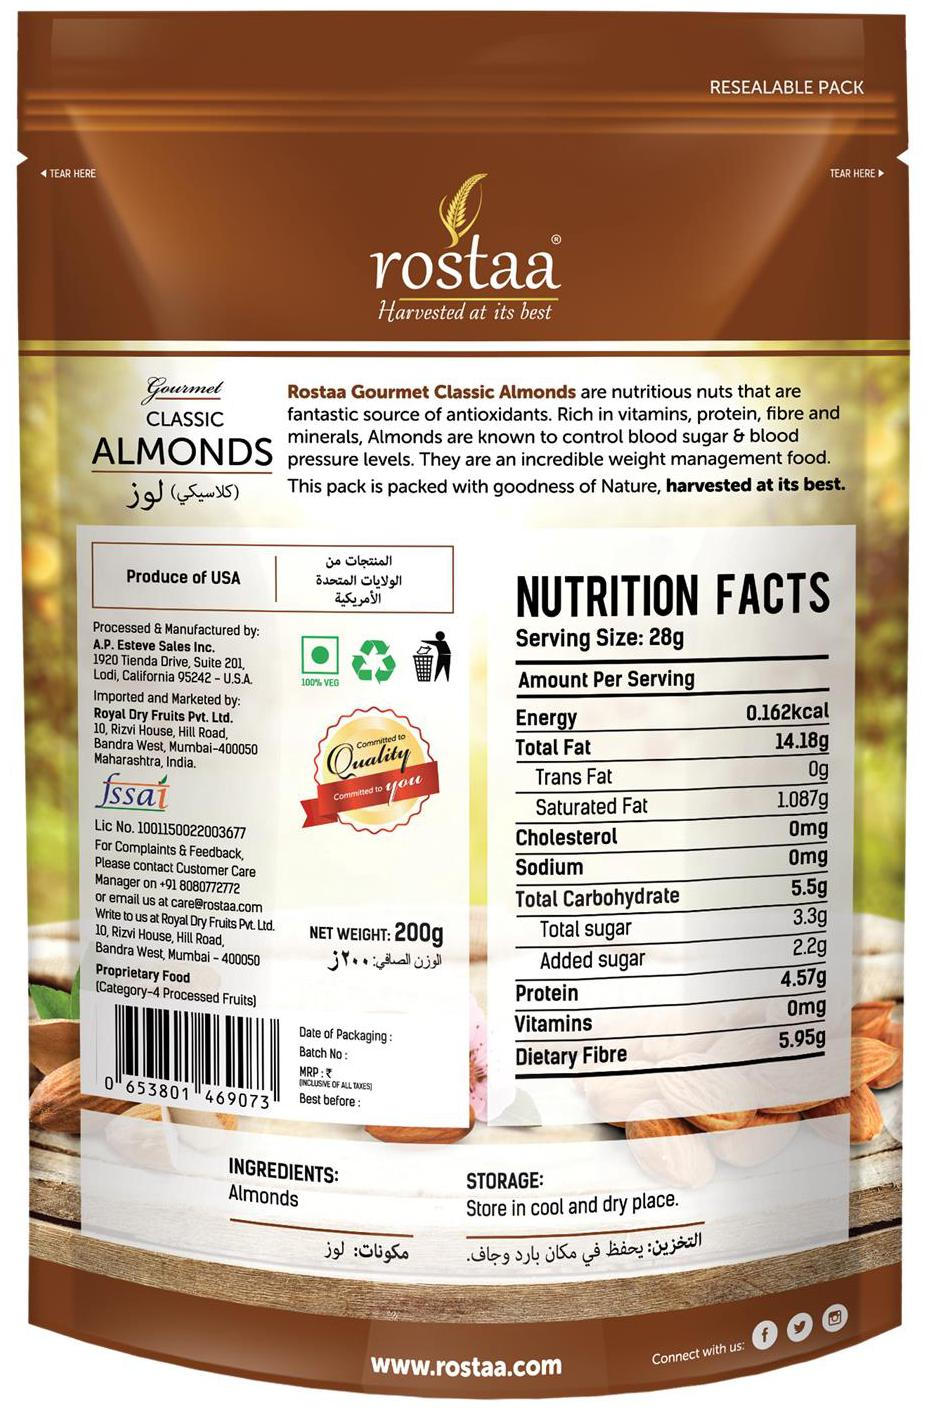fssai: (94, 772, 169, 811)
